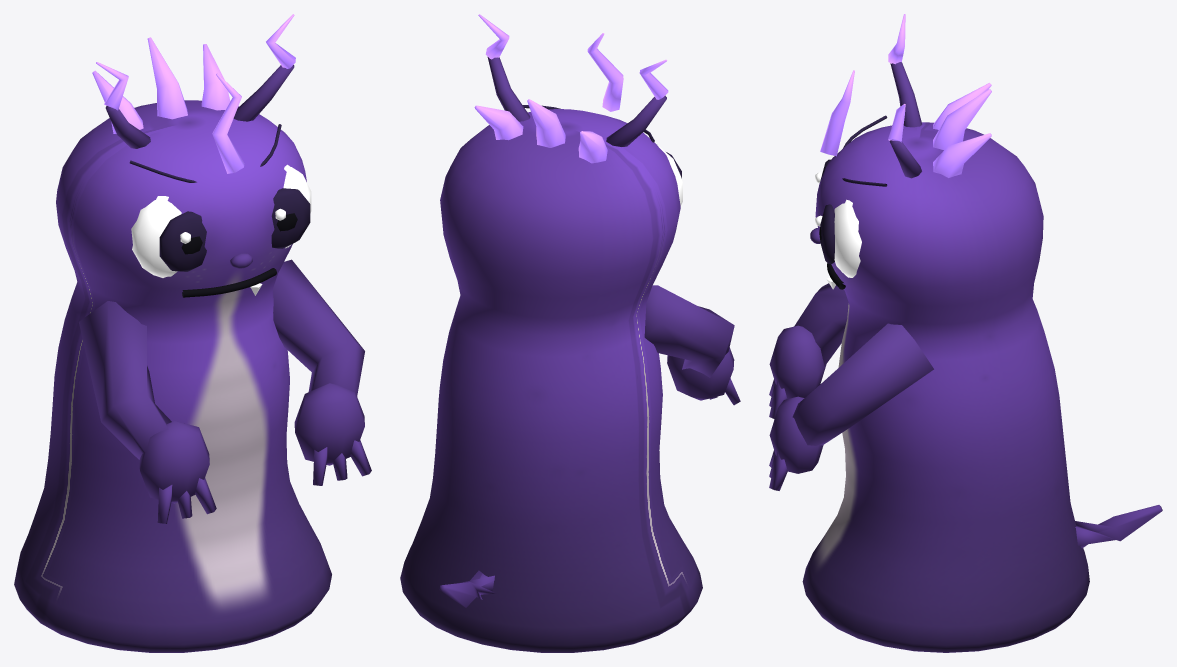
File: mota_pixar.glb
3 views of the same model, side by side, from view 1: azimuth 30°, elevation 25°; view 2: azimuth 150°, elevation 25°; view 3: azimuth 270°, elevation 25° (orthographic). The views are drawn at different scales.
Visible parts, largest first — view 1: mota_cuerpo; view 2: mota_cuerpo; view 3: mota_cuerpo.
Part boxes in pixels (x1,y1,x2,y2): mota_cuerpo: [14, 14, 371, 652]; mota_cuerpo: [400, 14, 740, 652]; mota_cuerpo: [769, 14, 1162, 652].
Size of the model in its own units: 0.2973 by 0.58 by 0.388.
5 materials, 1 textured.
